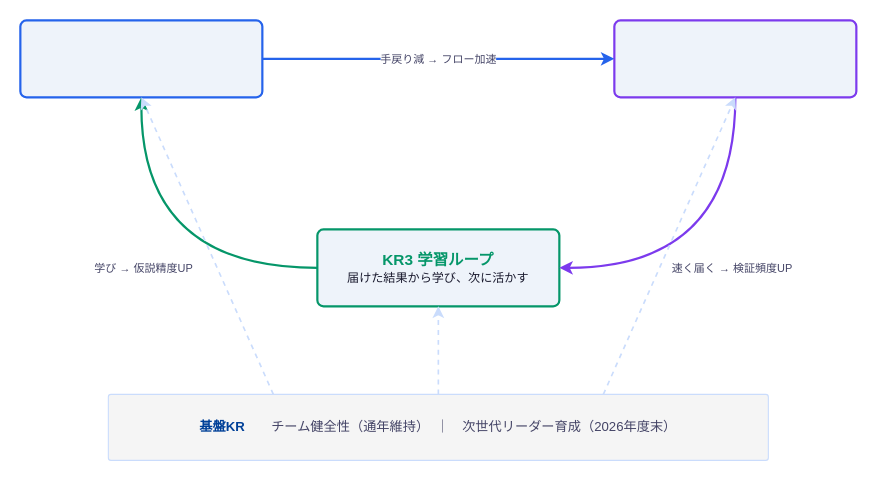
The diagram is 876 pixels wide and 480 high, and some of its shapes have lost their labels. Here are the shapes that lost their labels. From the top down, the box of each, then its label:
(19, 19, 263, 98): KR1 入口品質 仕様起因の手戻りをなくす
(613, 19, 857, 98): KR2 フロー効率 リードタイムを短縮する
